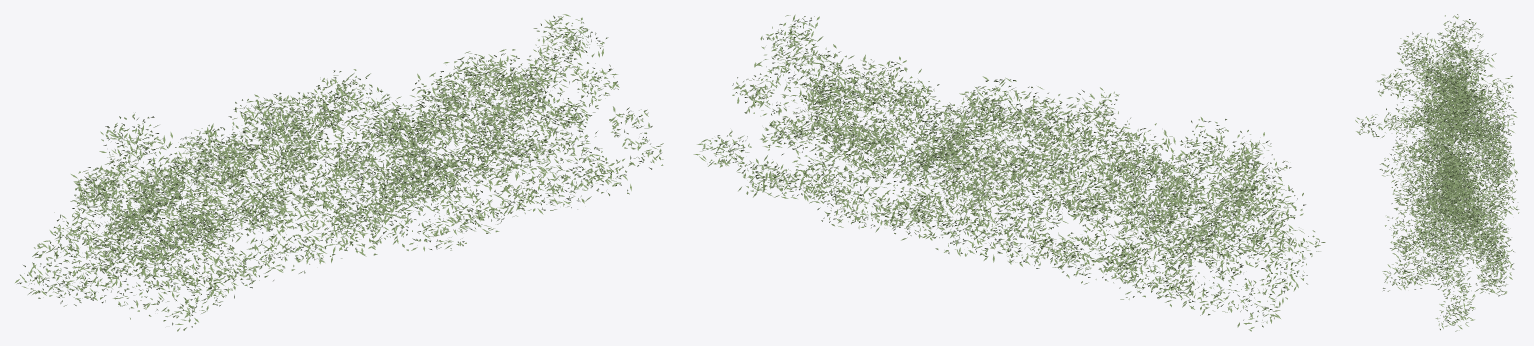
Rendered from xiyuan-vegetation-25-medium.glb.
The picture shows the model from 3 angles, left to right: view 1: azimuth 30°, elevation 25°; view 2: azimuth 150°, elevation 25°; view 3: azimuth 270°, elevation 25°; orthographic projection. The views are drawn at different scales.
Visible parts, largest first — view 1: vegetation cedar leaves; view 2: vegetation cedar leaves; view 3: vegetation cedar leaves.
Part boxes in pixels (bbox=[...]): vegetation cedar leaves: bbox=[15, 14, 663, 331]; vegetation cedar leaves: bbox=[693, 14, 1325, 331]; vegetation cedar leaves: bbox=[1355, 14, 1519, 331].
Bounding box in the file's own units: 38.7 × 11.17 × 11.88.
